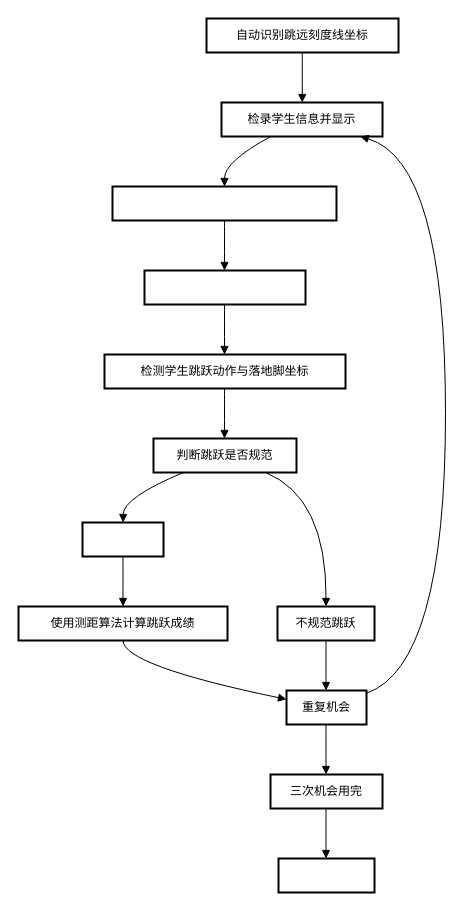
The diagram is 463 pixels wide and 910 high, and some of its shapes have lost their labels. Here are the shapes that lost their labels. From the top down, the centre of each, then its label:
At point (224, 203): "检测学生起跳动作与踩线情况".
At point (224, 287): "记录起跳时的脚坐标".
At point (122, 539): "规范跳跃".
At point (326, 875): "录入数据库".
